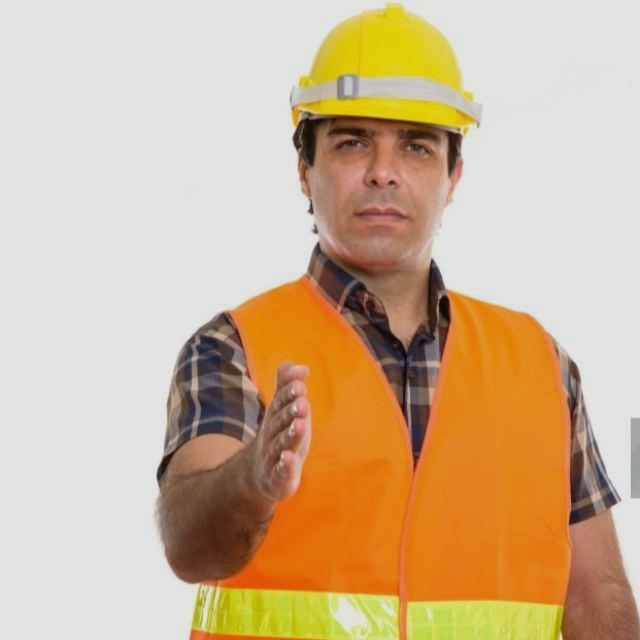Con_Chaleco: (208, 277, 574, 640)
Sin_Casco_Mascarrilla: (289, 3, 486, 273)
